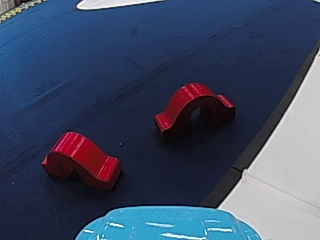bridge: (38, 126, 127, 192), (152, 77, 238, 141)
